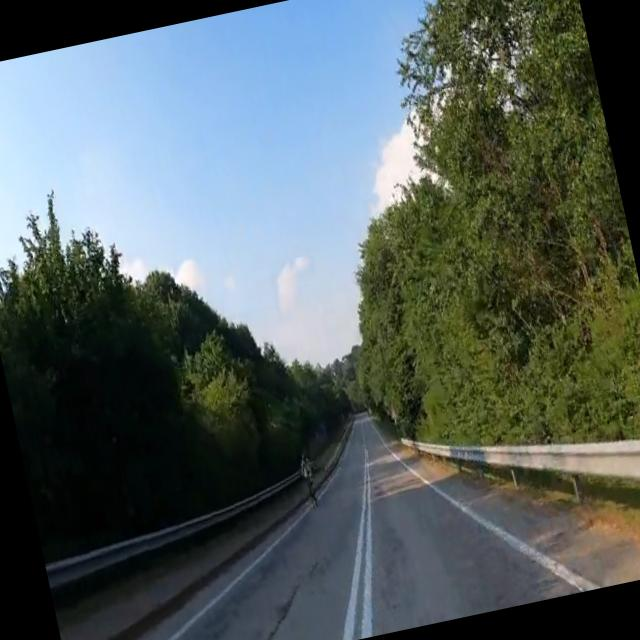asphalt: (110, 415, 640, 640)
grass: (369, 412, 640, 541), (313, 415, 355, 473)
